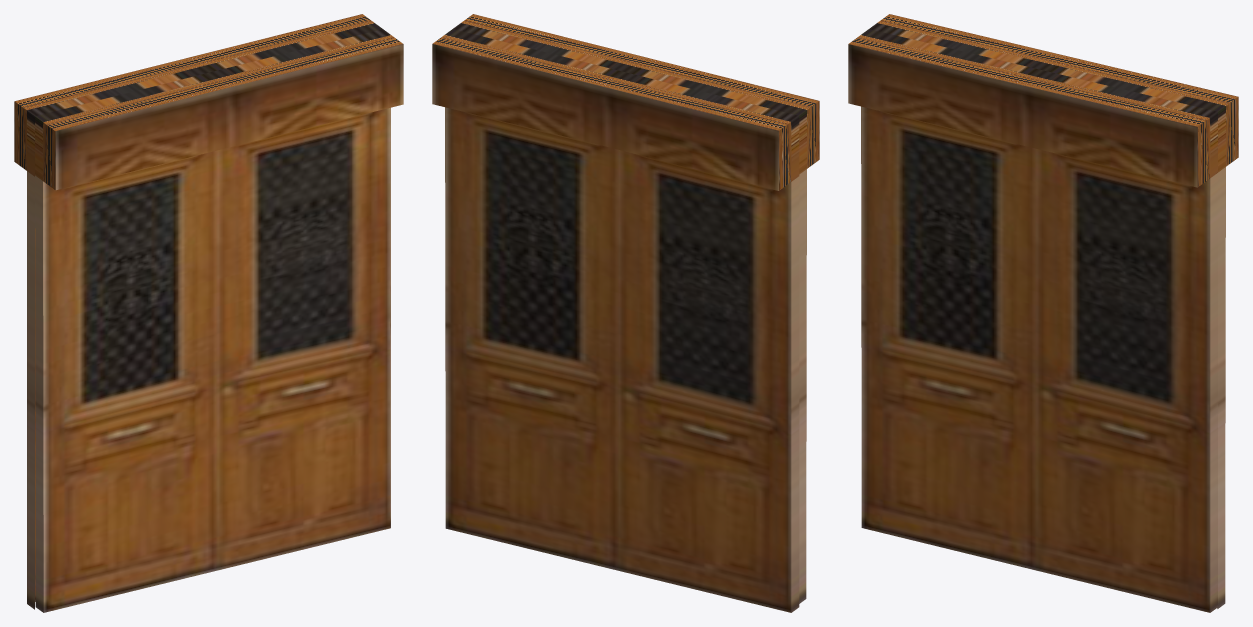
Rendered from door_140119.dae.
The picture shows the model from 3 angles, left to right: view 1: azimuth 30°, elevation 25°; view 2: azimuth 150°, elevation 25°; view 3: azimuth 330°, elevation 25°; orthographic projection.
Parts seen in each view (by area): view 1: door; view 2: door; view 3: door.
Boxes of the visible parts, x1,y1,x2,y2 form: door: (14, 14, 403, 612); door: (432, 14, 819, 612); door: (848, 14, 1238, 612).
Bounding box in the file's own units: 1503 × 2047 × 307.
